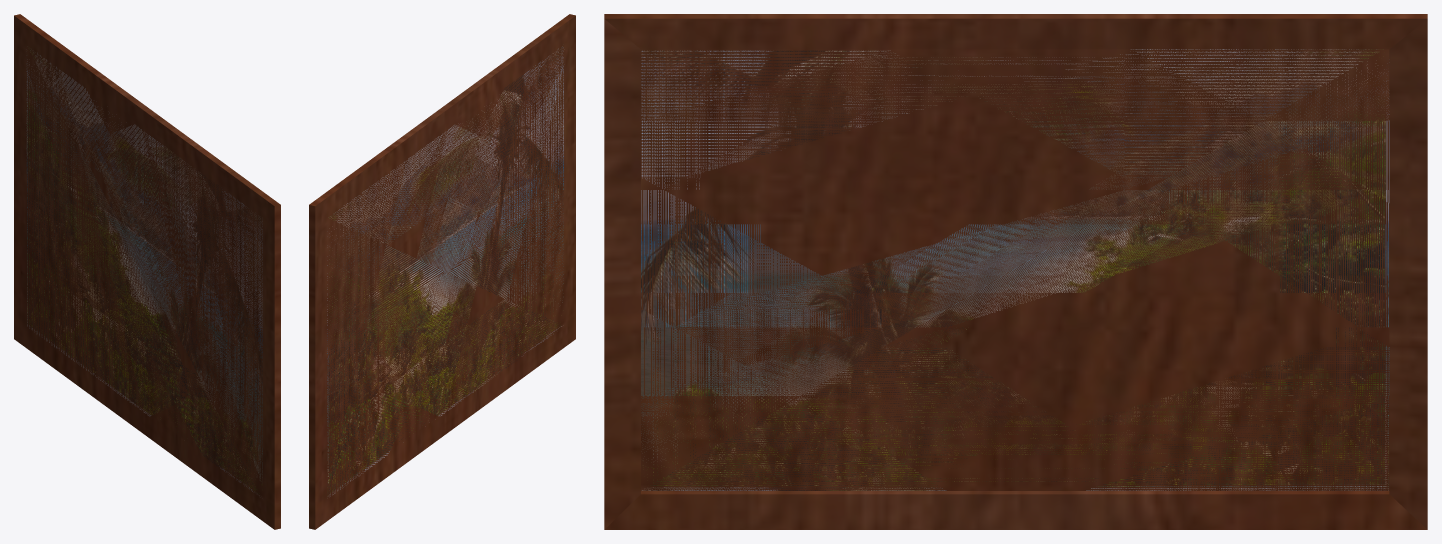
Rendered from bedPic.dae.
3 views of the same model, side by side, from view 1: azimuth 30°, elevation 25°; view 2: azimuth 150°, elevation 25°; view 3: azimuth 270°, elevation 25° (orthographic). The views are drawn at different scales.
Visible parts, largest first — view 1: group_0 (×3); view 2: group_0 (×3); view 3: group_0 (×2).
Boxes of the visible parts, x1,y1,x2,y2 form: group_0 (×3): [14, 14, 280, 529]; group_0 (×3): [309, 14, 575, 529]; group_0 (×2): [604, 14, 1427, 529].
Size of the model in its own units: 0.5906 by 42.94 by 29.41.
